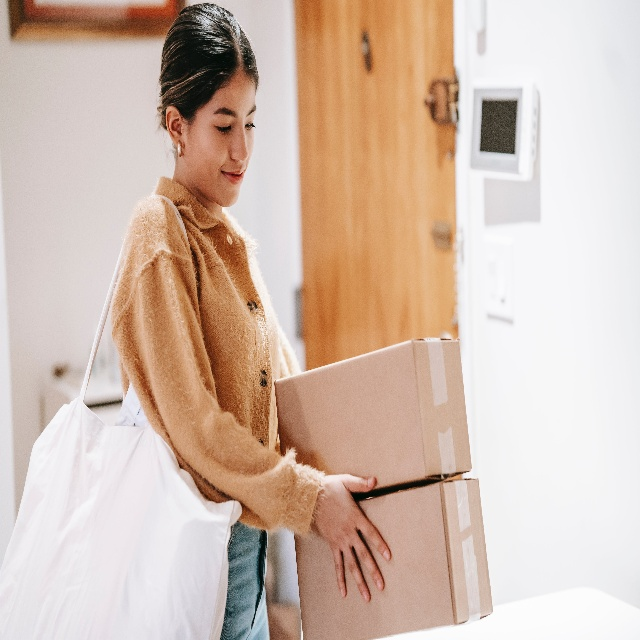Sin_guantes: (313, 472, 391, 602)
